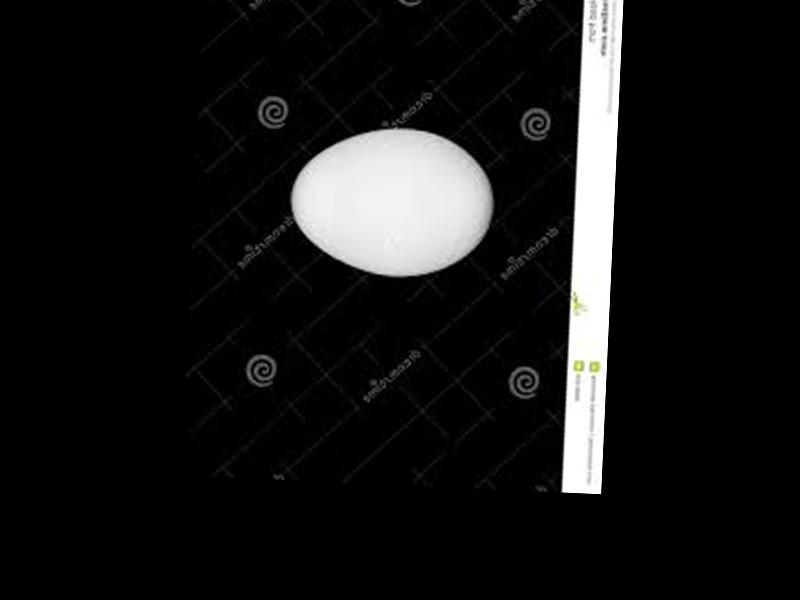Eggs: (288, 125, 495, 284)
